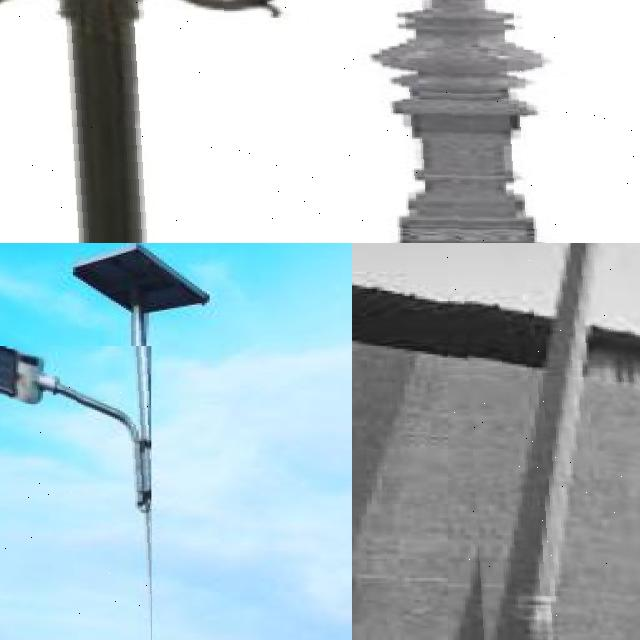street light: (0, 0, 352, 243), (447, 243, 640, 640), (352, 0, 640, 243), (0, 346, 151, 640)
